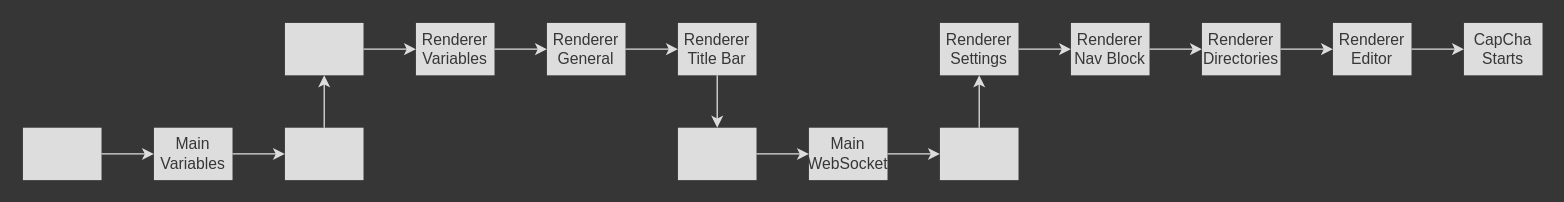
Image size: 1564x202. Some labels were removed from this diagram. The shapes that lost their labels are listed below. From the top down, each one's centre as x and y in pixels, then its label:
At [323,48]: "Renderer Process".
At [61,153]: "Main Process".
At [323,153]: "Main General".
At [716,153]: "Main OBS Studio".
At [978,153]: "Main Settings".
